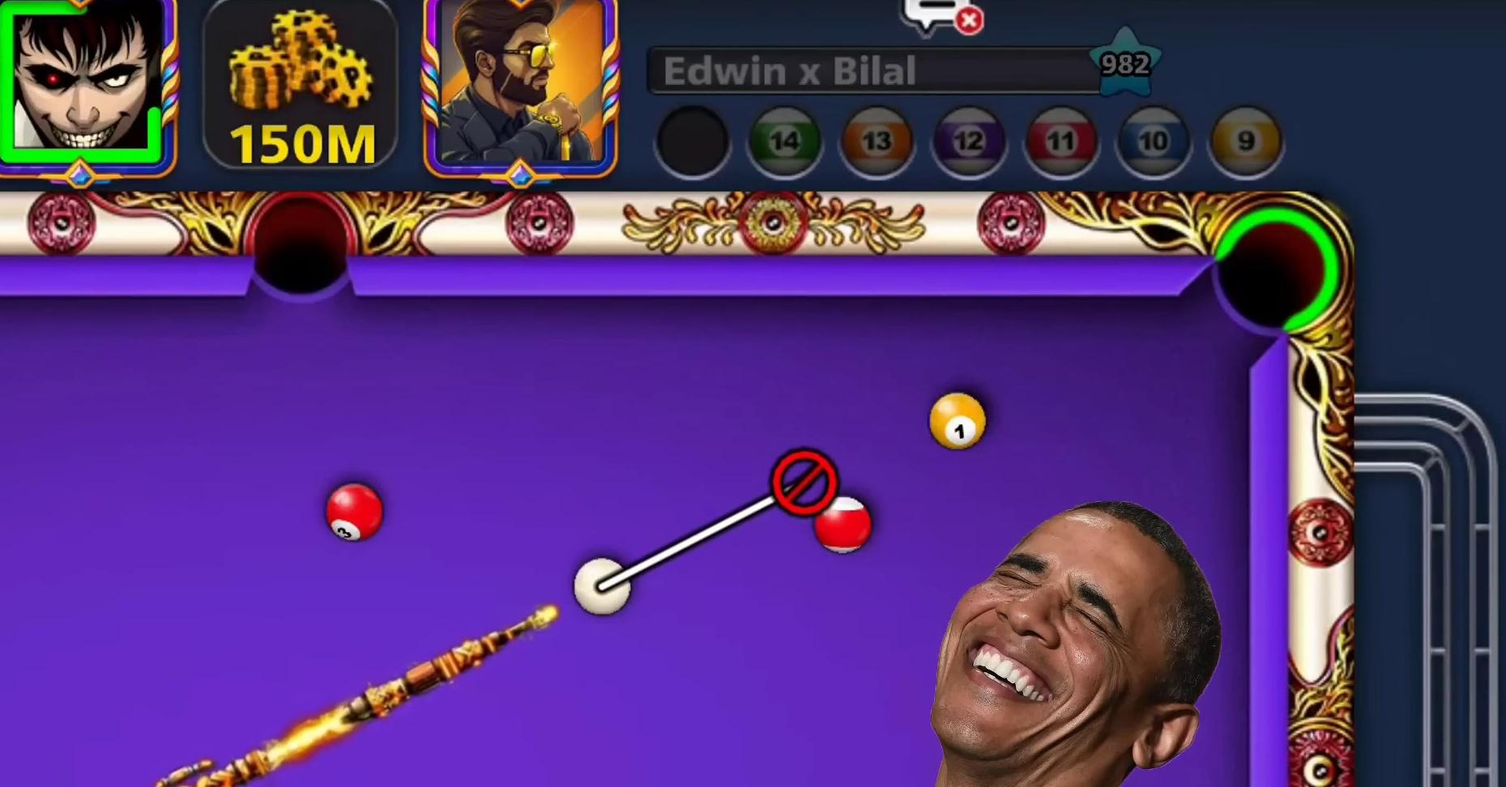Ball: (313, 475, 395, 554), (802, 497, 880, 559), (921, 388, 994, 453)
Guideline: (593, 448, 841, 594)
Hole: (1183, 179, 1360, 357), (237, 183, 363, 325)
Play_Area: (2, 292, 1249, 787)
White: (559, 548, 644, 626)
